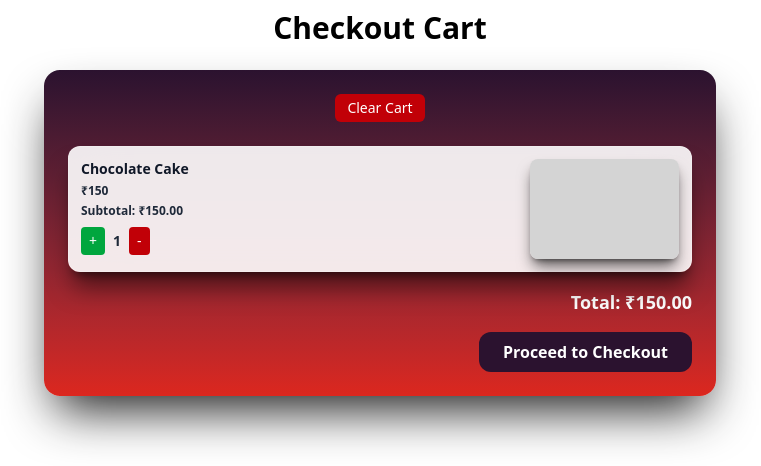
Cart Component Tests › clears cart on Clear Cart button click
Click the button "Clear Cart".
click(380, 108)  # box [335,94,425,122]
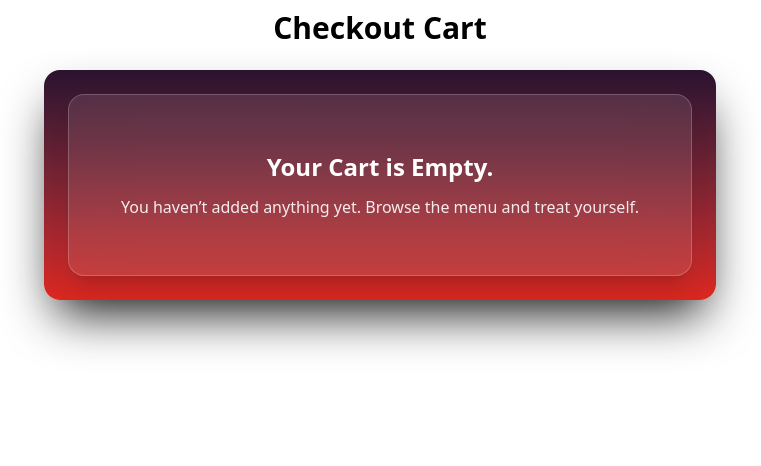
Now the heading "Your Cart is Empty." is shown, box [267,150,493,183]
